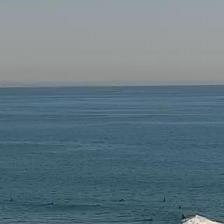surfer: (143, 218, 154, 221), (46, 202, 54, 205), (118, 199, 126, 202), (162, 197, 166, 202), (182, 214, 186, 219), (178, 205, 182, 209), (10, 198, 13, 202)
